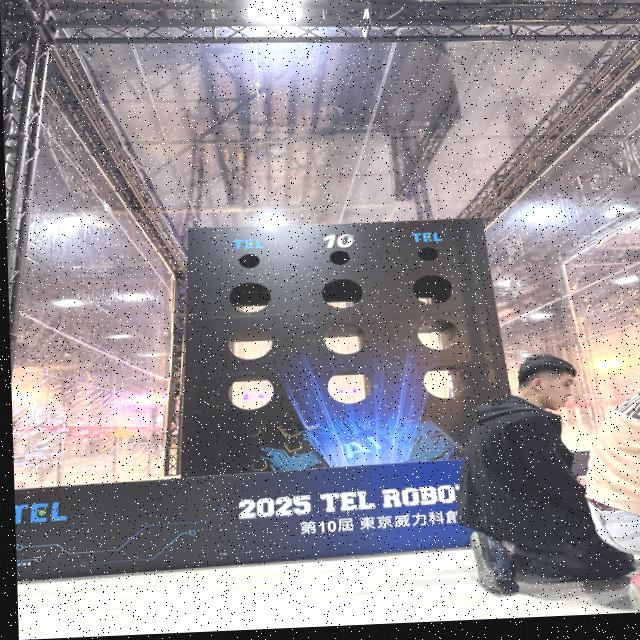hole: (227, 374, 275, 410), (327, 369, 372, 404), (422, 364, 467, 399), (229, 326, 273, 361), (323, 321, 367, 355), (418, 317, 460, 351), (230, 281, 272, 313), (321, 278, 362, 309), (412, 274, 453, 305), (239, 253, 260, 268), (419, 246, 439, 261), (330, 251, 350, 265)
